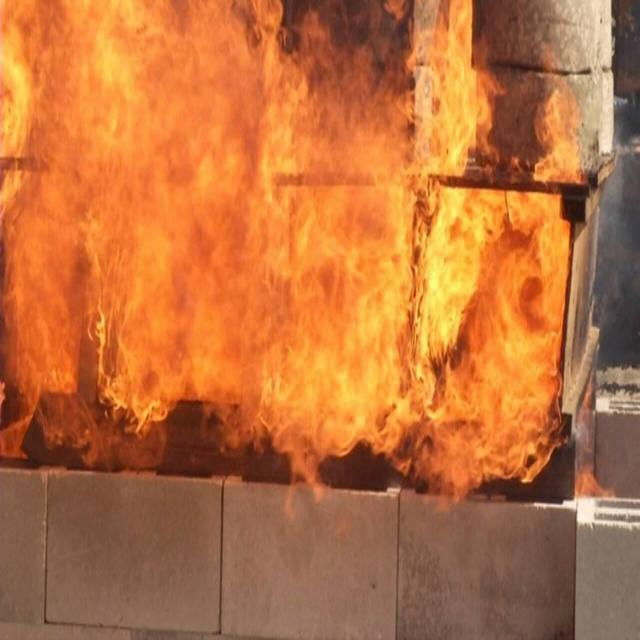Fire: (2, 1, 590, 512)
